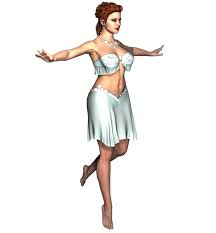person: (75, 2, 139, 66)
